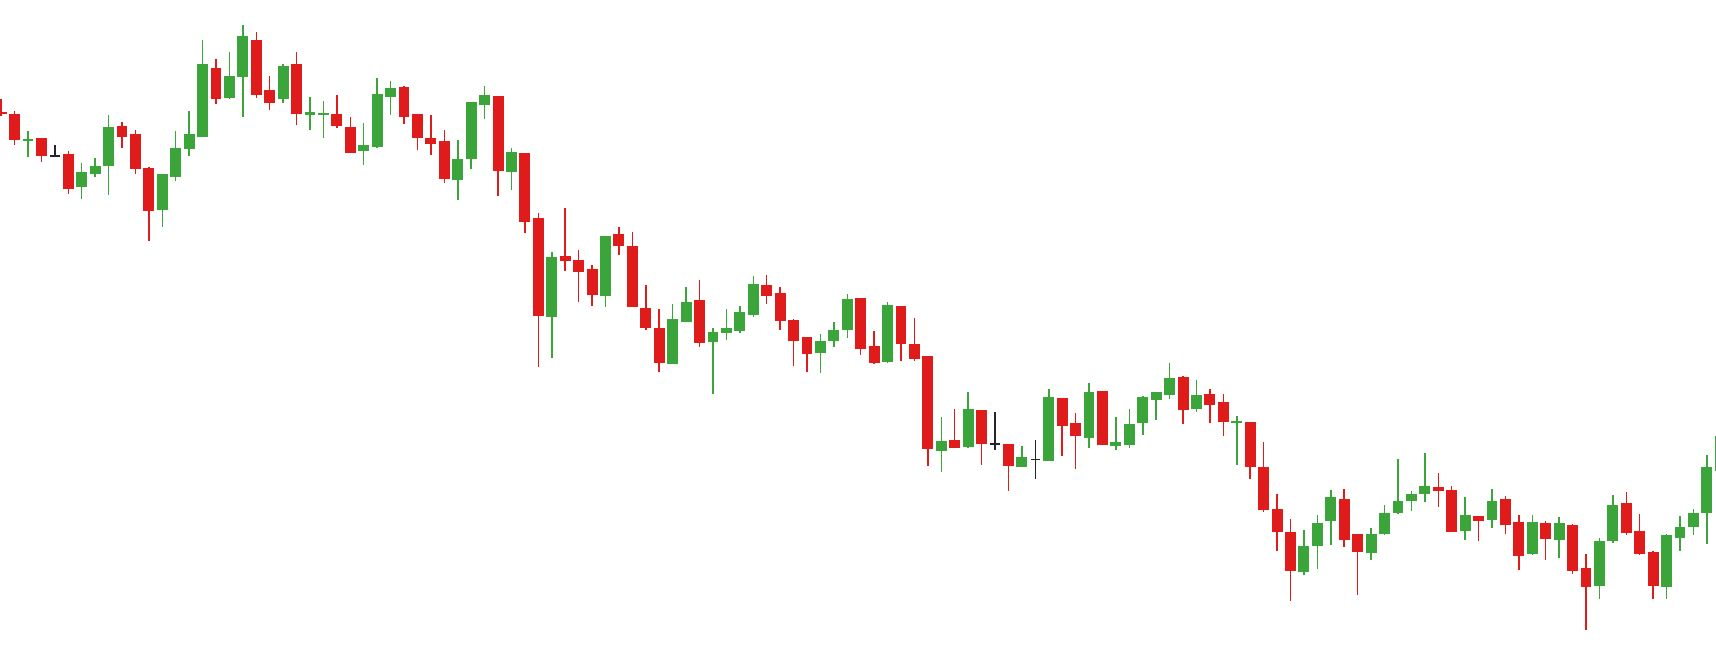buy: (61, 136, 167, 239)
sell: (1082, 366, 1189, 440), (331, 78, 408, 140), (693, 273, 772, 330)
